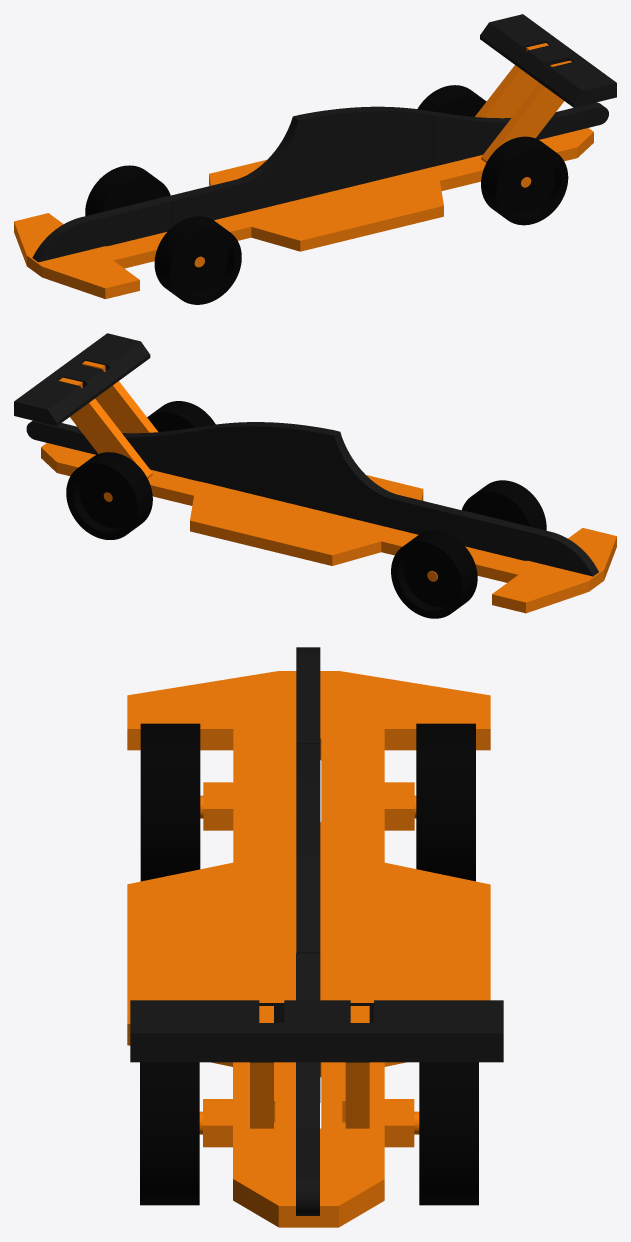
File: asset.glb
The picture shows the model from 3 angles, top to bottom: view 1: azimuth 30°, elevation 25°; view 2: azimuth 150°, elevation 25°; view 3: azimuth 270°, elevation 25°; orthographic projection. The views are drawn at different scales.
Visible parts, largest first — view 1: Layer 01(4A0B9CAC-5BD8-4A72-9AC4-F9F224A4B551), Layer 05(E7D6B622-FAF5-4155-8F2C-9B10772CB6B1), Layer 04(3EA2AC07-A51A-440C-8D1D-CF5E1C983FB9), Layer 02(28571200-81D8-489F-8DF7-AF7A295E68DC), Layer 02(7928D532-1B50-4677-913A-ADEABBB4164F), Layer 07(605B1E09-40DA-48C2-9309-6765284E8159), Layer 06(3AD7FA5F-EED2-4552-B1E9-E0E678B837E8), Layer 02(26EA44AD-0427-4923-895A-73557E730EC1), Layer 03(9684B00E-F9CF-4F86-8616-81F0C7823541), Layer 03(6589C1A3-10B0-4D5D-9F79-FF28A5C8DB61), Layer 02(B73E27C9-8C66-4BE2-B0F1-E32315FB0CCD); view 2: Layer 01(4A0B9CAC-5BD8-4A72-9AC4-F9F224A4B551), Layer 05(E7D6B622-FAF5-4155-8F2C-9B10772CB6B1), Layer 02(B73E27C9-8C66-4BE2-B0F1-E32315FB0CCD), Layer 02(26EA44AD-0427-4923-895A-73557E730EC1), Layer 04(3EA2AC07-A51A-440C-8D1D-CF5E1C983FB9), Layer 07(605B1E09-40DA-48C2-9309-6765284E8159), Layer 06(3AD7FA5F-EED2-4552-B1E9-E0E678B837E8), Layer 02(28571200-81D8-489F-8DF7-AF7A295E68DC), Layer 03(6589C1A3-10B0-4D5D-9F79-FF28A5C8DB61), Layer 03(9684B00E-F9CF-4F86-8616-81F0C7823541), Layer 02(7928D532-1B50-4677-913A-ADEABBB4164F); view 3: Layer 01(4A0B9CAC-5BD8-4A72-9AC4-F9F224A4B551), Layer 04(3EA2AC07-A51A-440C-8D1D-CF5E1C983FB9), Layer 02(28571200-81D8-489F-8DF7-AF7A295E68DC), Layer 02(26EA44AD-0427-4923-895A-73557E730EC1), Layer 02(7928D532-1B50-4677-913A-ADEABBB4164F), Layer 02(B73E27C9-8C66-4BE2-B0F1-E32315FB0CCD), Layer 05(E7D6B622-FAF5-4155-8F2C-9B10772CB6B1), Layer 06(3AD7FA5F-EED2-4552-B1E9-E0E678B837E8), Layer 07(605B1E09-40DA-48C2-9309-6765284E8159), Layer 03(6589C1A3-10B0-4D5D-9F79-FF28A5C8DB61), Layer 03(9684B00E-F9CF-4F86-8616-81F0C7823541).
Boxes of the visible parts, x1,y1,x2,y2 form: Layer 01(4A0B9CAC-5BD8-4A72-9AC4-F9F224A4B551): (14,128,593,299); Layer 05(E7D6B622-FAF5-4155-8F2C-9B10772CB6B1): (167,106,433,226); Layer 04(3EA2AC07-A51A-440C-8D1D-CF5E1C983FB9): (480,14,616,107); Layer 02(28571200-81D8-489F-8DF7-AF7A295E68DC): (154,216,241,304); Layer 02(7928D532-1B50-4677-913A-ADEABBB4164F): (481,136,568,225); Layer 07(605B1E09-40DA-48C2-9309-6765284E8159): (32,196,172,262); Layer 06(3AD7FA5F-EED2-4552-B1E9-E0E678B837E8): (429,102,608,166); Layer 02(26EA44AD-0427-4923-895A-73557E730EC1): (85,165,170,215); Layer 03(9684B00E-F9CF-4F86-8616-81F0C7823541): (481,60,571,162); Layer 03(6589C1A3-10B0-4D5D-9F79-FF28A5C8DB61): (475,43,548,118); Layer 02(B73E27C9-8C66-4BE2-B0F1-E32315FB0CCD): (417,85,486,116); Layer 01(4A0B9CAC-5BD8-4A72-9AC4-F9F224A4B551): (41,443,616,613); Layer 05(E7D6B622-FAF5-4155-8F2C-9B10772CB6B1): (200,422,464,540); Layer 02(B73E27C9-8C66-4BE2-B0F1-E32315FB0CCD): (66,452,152,539); Layer 02(26EA44AD-0427-4923-895A-73557E730EC1): (391,530,477,618); Layer 04(3EA2AC07-A51A-440C-8D1D-CF5E1C983FB9): (14,333,150,426); Layer 07(605B1E09-40DA-48C2-9309-6765284E8159): (459,511,598,576); Layer 06(3AD7FA5F-EED2-4552-B1E9-E0E678B837E8): (26,420,205,481); Layer 02(28571200-81D8-489F-8DF7-AF7A295E68DC): (462,480,546,530); Layer 03(6589C1A3-10B0-4D5D-9F79-FF28A5C8DB61): (59,377,152,478); Layer 03(9684B00E-F9CF-4F86-8616-81F0C7823541): (82,361,158,433); Layer 02(7928D532-1B50-4677-913A-ADEABBB4164F): (147,401,215,431); Layer 01(4A0B9CAC-5BD8-4A72-9AC4-F9F224A4B551): (127,671,490,1227); Layer 04(3EA2AC07-A51A-440C-8D1D-CF5E1C983FB9): (130,1000,503,1062); Layer 02(28571200-81D8-489F-8DF7-AF7A295E68DC): (140,723,200,881); Layer 02(26EA44AD-0427-4923-895A-73557E730EC1): (416,723,475,881); Layer 02(7928D532-1B50-4677-913A-ADEABBB4164F): (140,1062,199,1205); Layer 02(B73E27C9-8C66-4BE2-B0F1-E32315FB0CCD): (419,1062,478,1205); Layer 05(E7D6B622-FAF5-4155-8F2C-9B10772CB6B1): (296,743,320,1102); Layer 06(3AD7FA5F-EED2-4552-B1E9-E0E678B837E8): (296,953,319,1215); Layer 07(605B1E09-40DA-48C2-9309-6765284E8159): (296,647,320,743); Layer 03(6589C1A3-10B0-4D5D-9F79-FF28A5C8DB61): (345,1006,369,1128); Layer 03(9684B00E-F9CF-4F86-8616-81F0C7823541): (250,1006,273,1128).
Bounding box in the file's own units: 0.1098 × 0.0226 × 0.0315.
Materials: 6 (1 with a texture image).
